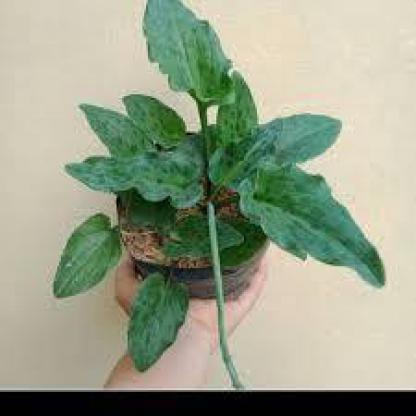Kenanga: (68, 121, 216, 267)
